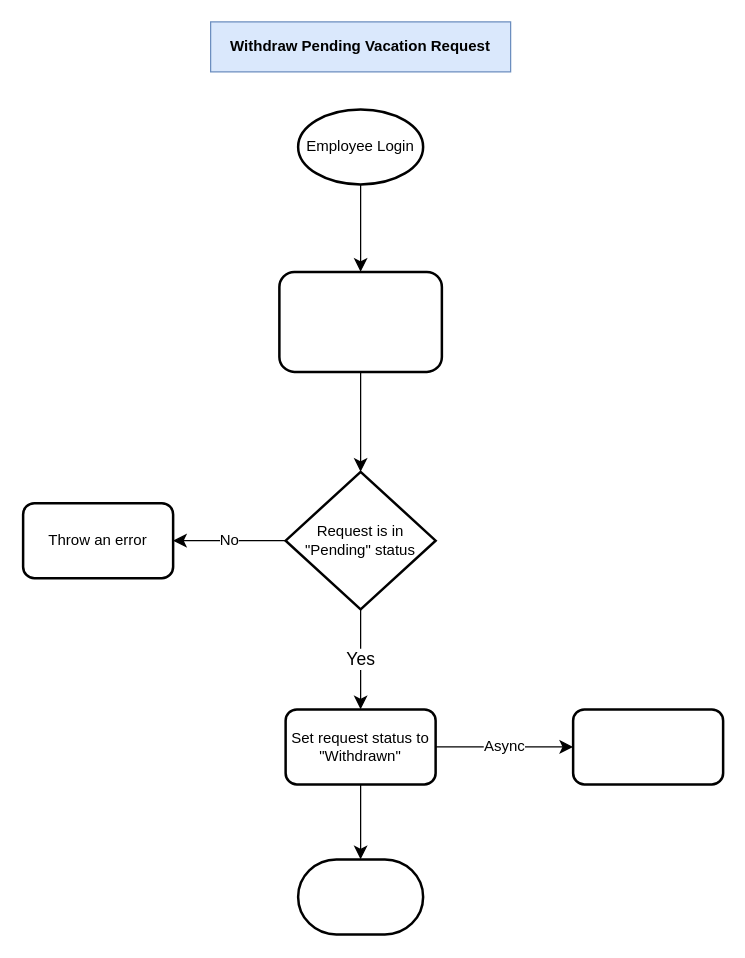
Some shapes in this 745 by 958 pixel diagram are drawn without their labels. Each missing label, with the centre of its shape:
"Employee attempt to withdraw request" belongs at [360,321].
"End" belongs at [360,896].
"Send email to Manager" belongs at [647,746].
